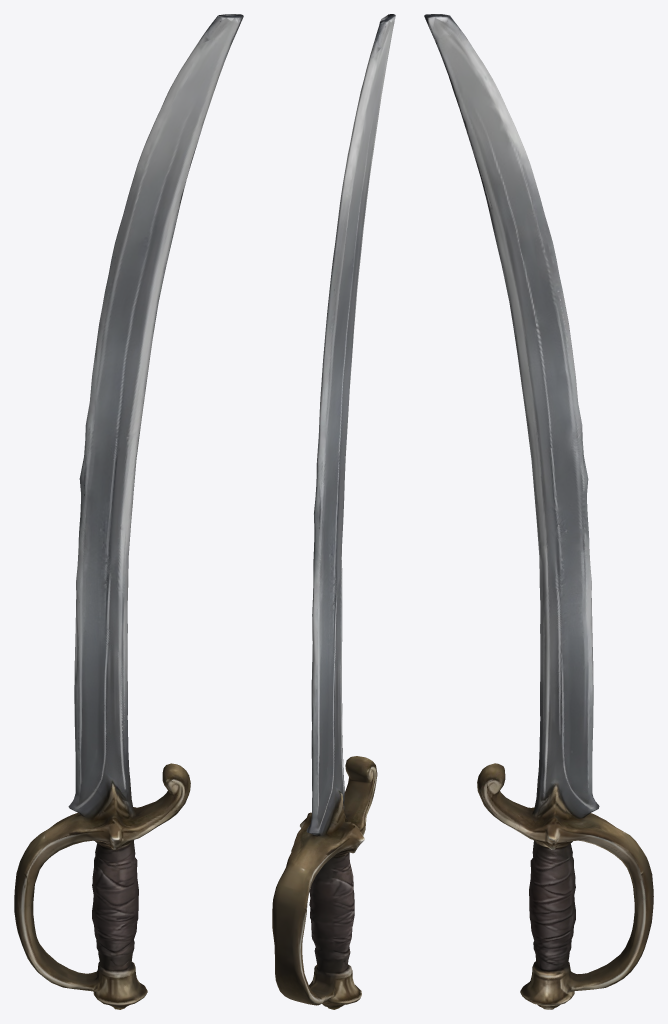
The model's file is brass_sabre.glb.
The picture shows the model from 3 angles, left to right: view 1: azimuth 90°, elevation 25°; view 2: azimuth 150°, elevation 25°; view 3: azimuth 270°, elevation 25°; orthographic projection. The views are drawn at different scales.
Visible parts, largest first — view 1: brass_sabre; view 2: brass_sabre; view 3: brass_sabre.
Part boxes in pixels (x1,y1,x2,y2): brass_sabre: (14,14,243,1009); brass_sabre: (272,14,395,1009); brass_sabre: (424,14,653,1009).
Bounding box in the file's own units: 0.0466 × 0.6669 × 0.1397.
Materials: 1 (1 with a texture image).
